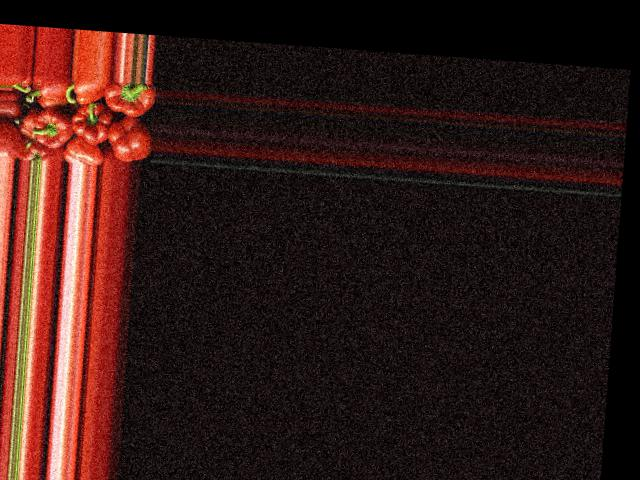bell_pepper: (64, 139, 105, 164)
